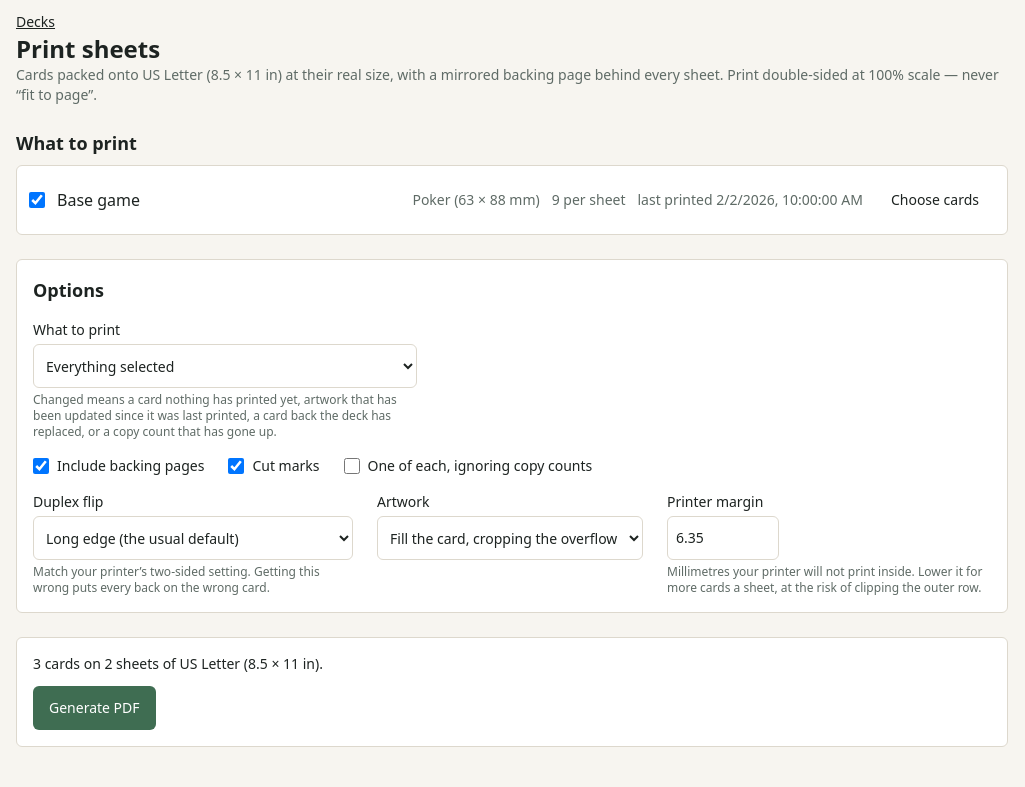
Test: printing only what has changed › says when each deck was last printed and why a card is owed
Expected: the text "last printed 2/2/2026, 10:00:00 AM" is shown, [638,190,863,210]
What coordinates should you click on to do the following:
click the button "Choose cards"
I would click on:
 (935, 200)
Its box is [875,178,995,222].
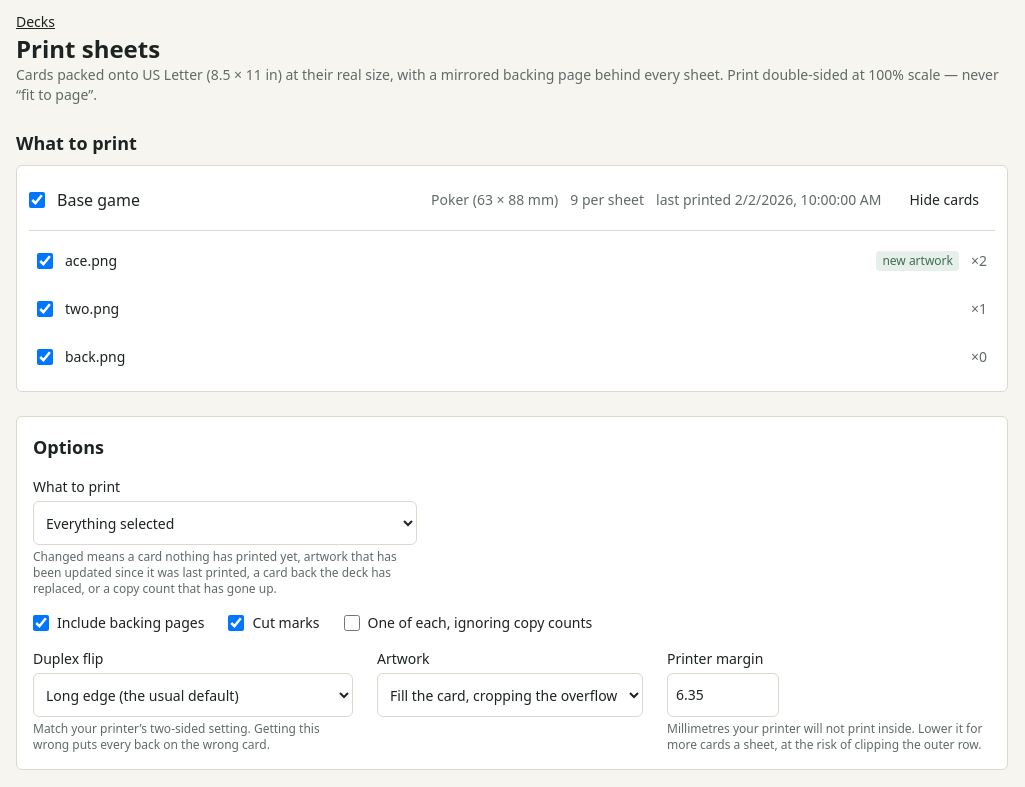
Result: the text "new artwork" is shown at [876,251,959,271]
